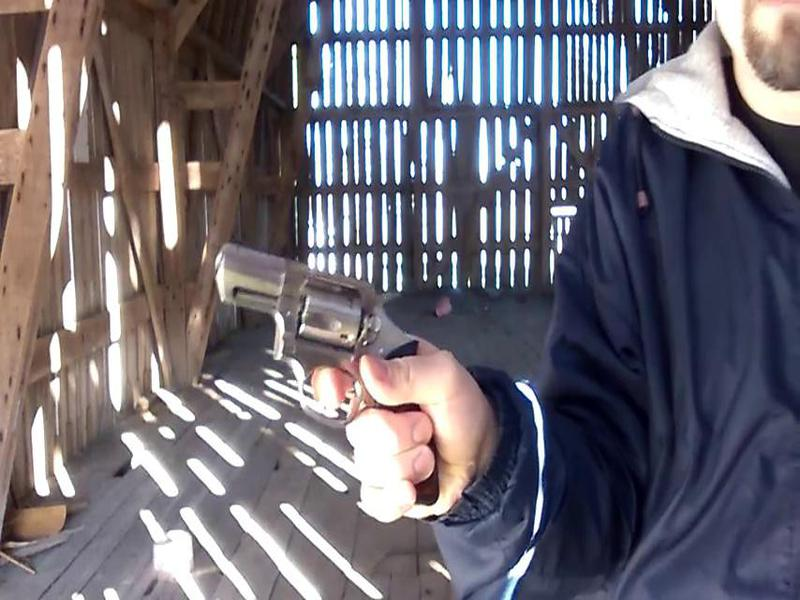Revolver: (203, 234, 447, 510)
